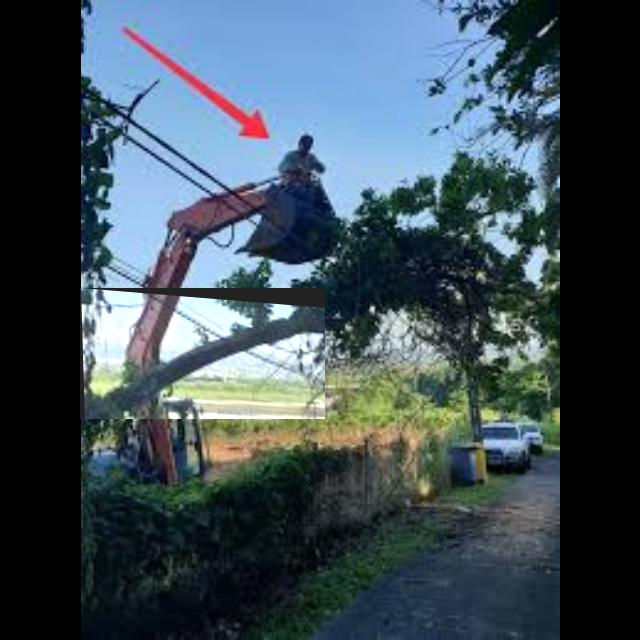Fallen Tree: (80, 288, 326, 420)
